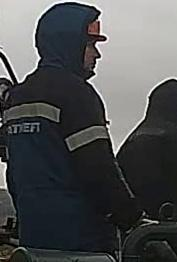helmet: (84, 14, 111, 43)
vest: (0, 70, 120, 243), (118, 118, 177, 205)
